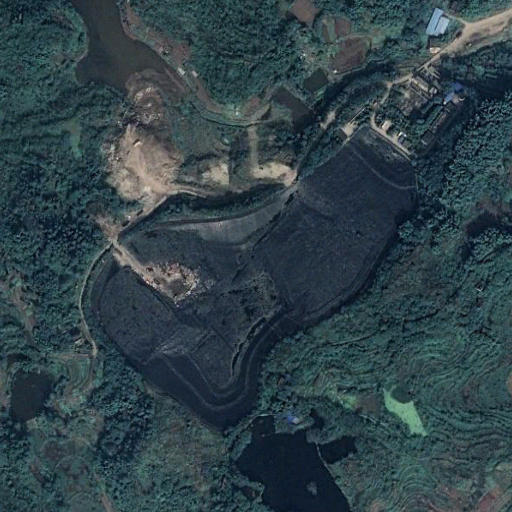lf: (80, 124, 422, 434)
